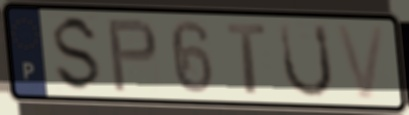6: (169, 18, 216, 98)
P: (105, 16, 161, 94)
S: (51, 13, 104, 95)
T: (224, 22, 270, 97)
U: (277, 20, 337, 101)
V: (332, 22, 389, 103)
